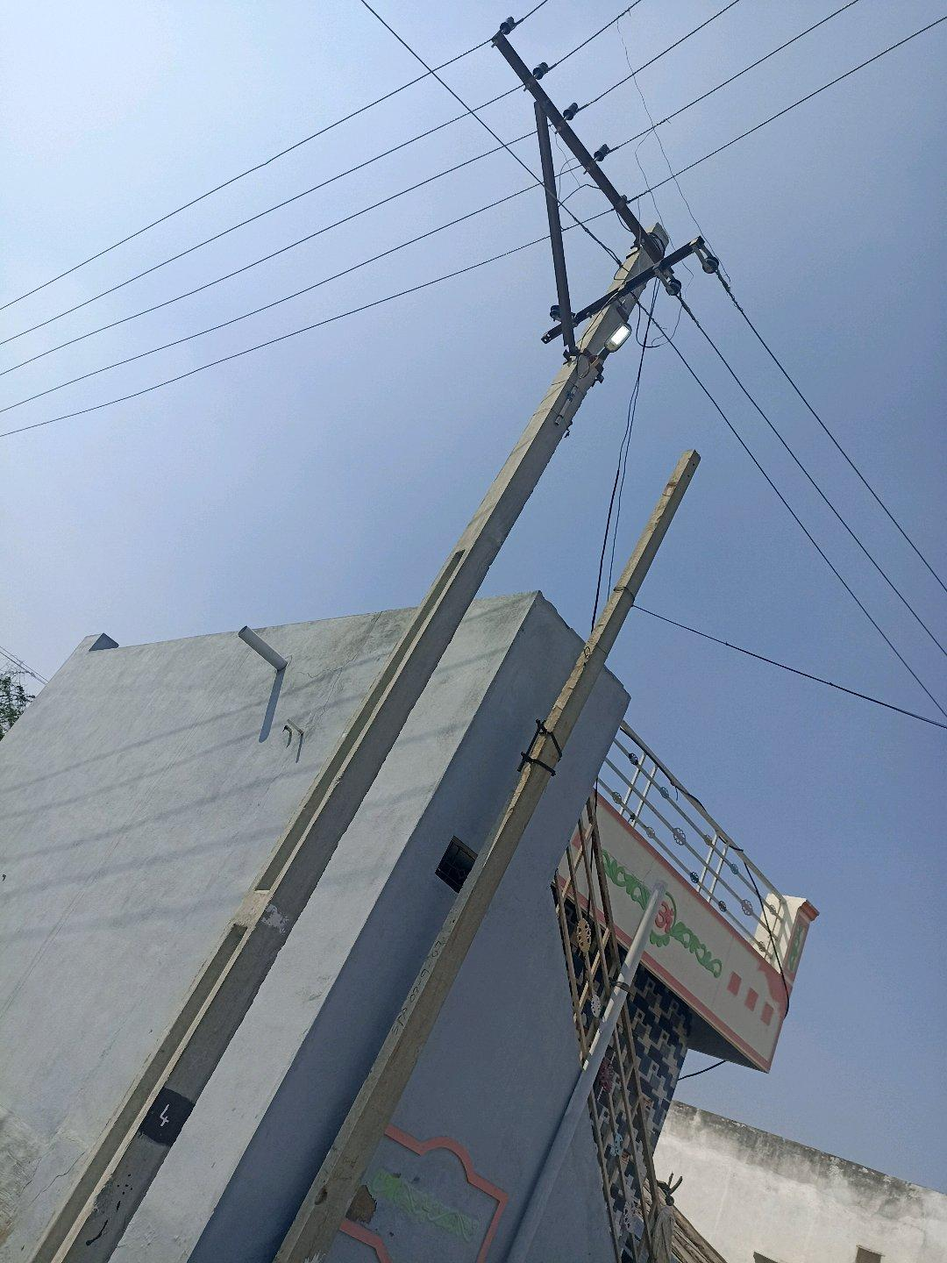{"0" "insulator", "1" "pole", "2" "crossarm", "3" "conductor", "4" "street_: (31, 0, 718, 1262), (545, 731, 560, 749), (500, 19, 517, 34), (540, 765, 550, 774), (629, 592, 637, 602), (382, 1111, 388, 1120), (534, 755, 538, 767), (585, 100, 591, 107), (621, 610, 625, 620), (548, 335, 554, 341), (497, 840, 502, 846), (636, 582, 639, 588), (680, 491, 683, 497), (516, 831, 519, 836), (666, 521, 668, 527), (614, 596, 616, 601), (651, 553, 653, 558), (684, 484, 687, 487), (625, 603, 629, 605), (351, 1185, 353, 1188), (381, 1125, 383, 1128), (471, 929, 474, 931), (536, 751, 538, 754), (559, 731, 561, 734), (381, 1106, 383, 1108), (441, 988, 443, 990), (426, 988, 428, 990), (470, 909, 472, 911), (629, 302, 630, 306), (300, 1245, 303, 1246), (315, 1245, 317, 1246), (307, 1245, 309, 1246), (345, 1195, 346, 1197), (644, 573, 645, 575)
